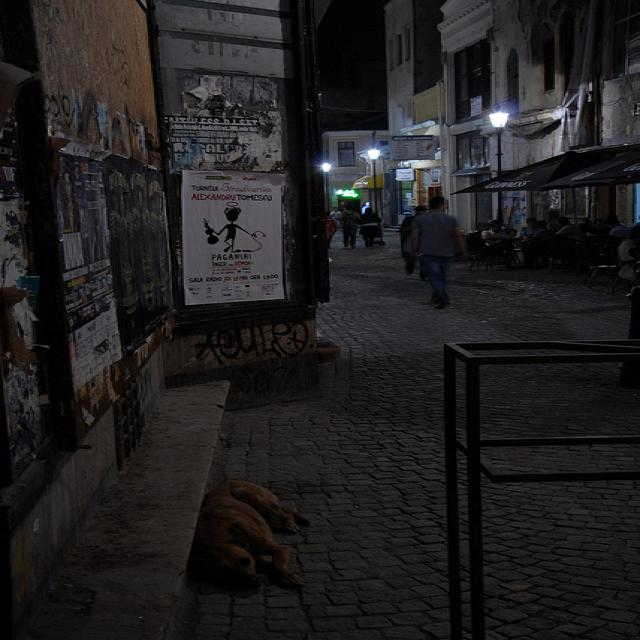Dog: (190, 505, 358, 611)
